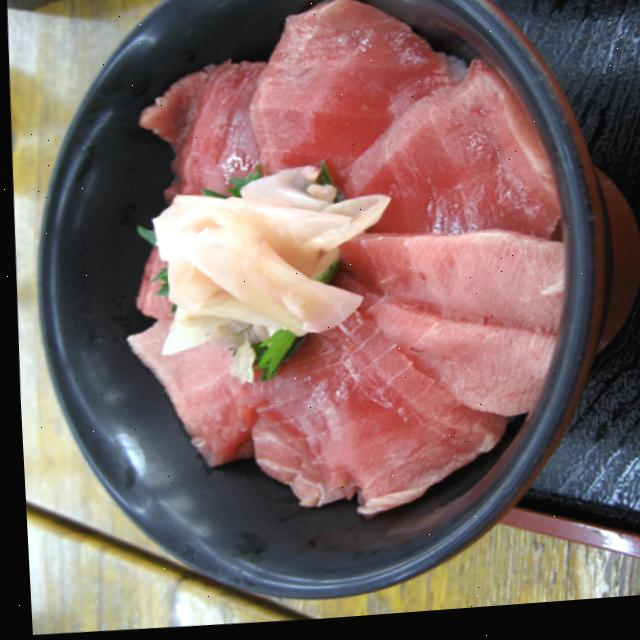刺身生食: (9, 0, 640, 626)
